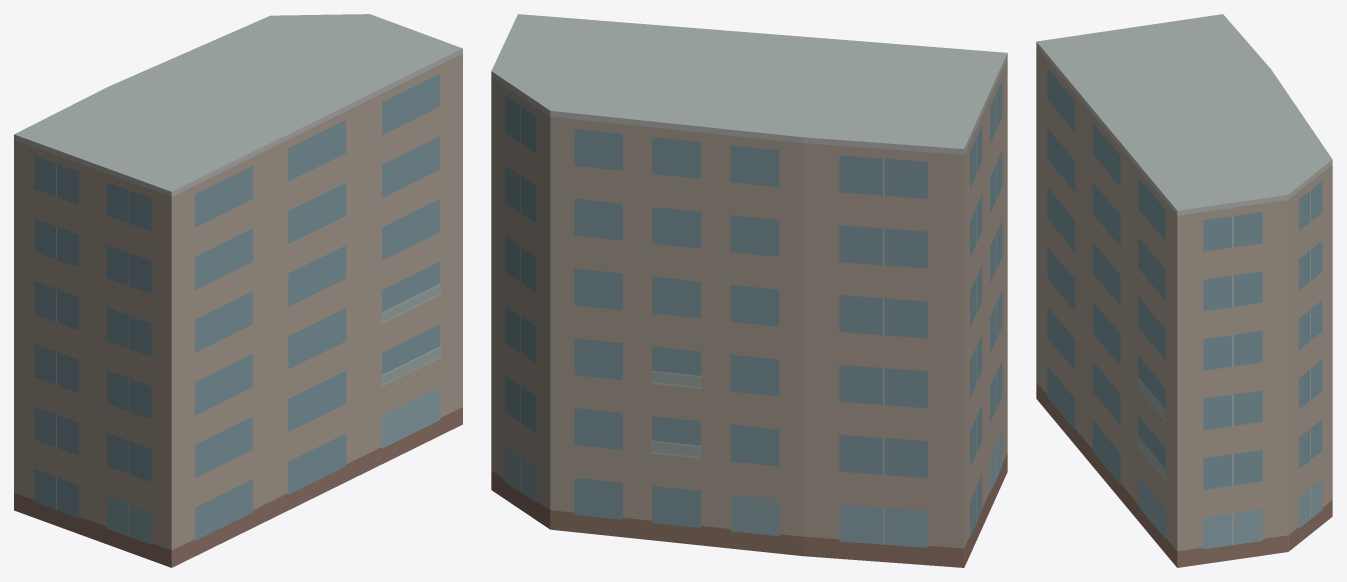
File: survey-upis-32709124.glb
3 renders of one model, left to right at view 1: azimuth 30°, elevation 25°; view 2: azimuth 150°, elevation 25°; view 3: azimuth 270°, elevation 25°, orthographic. The views are drawn at different scales.
Visible parts, largest first — view 1: survey-upis-32709124.tmp; view 2: survey-upis-32709124.tmp; view 3: survey-upis-32709124.tmp.
Boxes of the visible parts, box(x1,y1,x2,y2) form: survey-upis-32709124.tmp: box(14, 14, 462, 567); survey-upis-32709124.tmp: box(491, 14, 1007, 567); survey-upis-32709124.tmp: box(1036, 14, 1332, 567).
Bounding box in the file's own units: 20.58 × 17.4 × 13.09.
